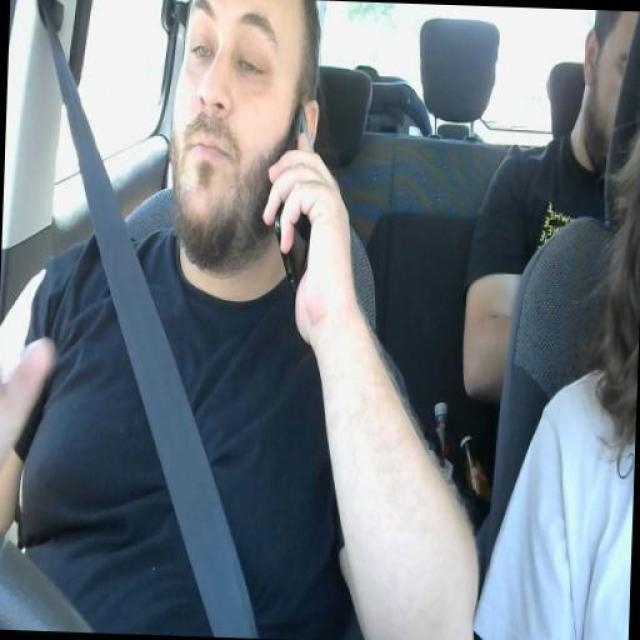phone: (274, 107, 318, 285)
